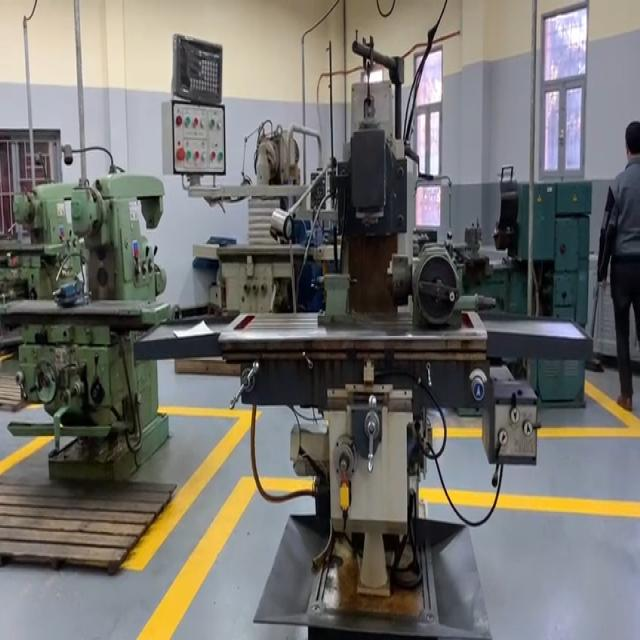fraiseuse: (135, 40, 591, 637)
